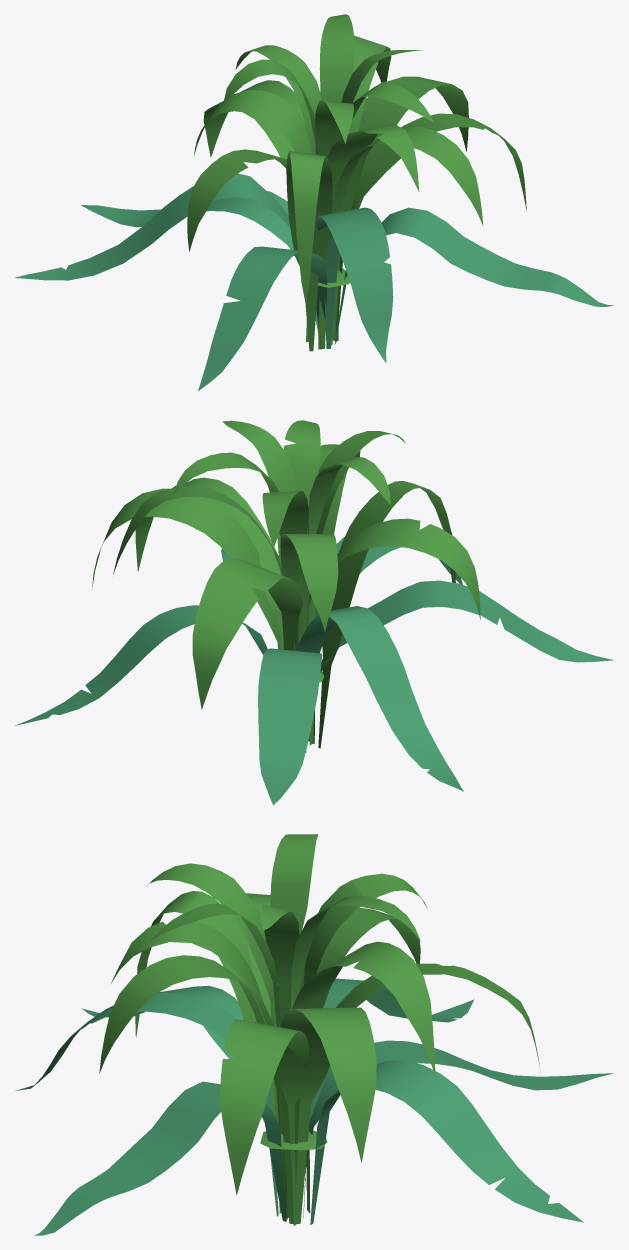
The model's file is plant_dracaena_G.fbx.
3 views of the same model, one above another, from view 1: azimuth 30°, elevation 25°; view 2: azimuth 150°, elevation 25°; view 3: azimuth 270°, elevation 25° (orthographic). The views are drawn at different scales.
Visible parts, largest first — view 1: plant_dracaena_F_leaf_S, plant_dracaena_F_leaf_T, plant_dracaena_F_leaf_U, plant_dracaena_G_leaf_J, plant_dracaena_F_leaf_Q, plant_dracaena_G_leaf_O, plant_dracaena_G_leaf_I, plant_dracaena_G_leaf_H, plant_dracaena_G_leaf_C, plant_dracaena_F_leaf_R, plant_dracaena_G_leaf_L, plant_dracaena_G_leaf_K (+8 smaller); view 2: plant_dracaena_F_leaf_Q, plant_dracaena_F_leaf_R, plant_dracaena_F_leaf_M, plant_dracaena_F_leaf_U, plant_dracaena_G_leaf_O, plant_dracaena_G_leaf_J, plant_dracaena_G_leaf_K, plant_dracaena_F_leaf_V, plant_dracaena_G_leaf_L, plant_dracaena_G_leaf_P, plant_dracaena_G_leaf_D, plant_dracaena_G_leaf_E (+7 smaller); view 3: plant_dracaena_G_leaf_O, plant_dracaena_F_leaf_V, plant_dracaena_F_leaf_T, plant_dracaena_G_leaf_P, plant_dracaena_G_leaf_N, plant_dracaena_G_leaf_H, plant_dracaena_F_leaf_R, plant_dracaena_G_leaf_F, plant_dracaena_G_leaf_D, plant_dracaena_G_leaf_E, plant_dracaena_G_leaf_I, plant_dracaena_F_leaf_S (+10 smaller).
Boxes of the visible parts, bbox=[...] form: plant_dracaena_F_leaf_S: bbox=[316, 207, 393, 362]; plant_dracaena_F_leaf_T: bbox=[334, 207, 614, 344]; plant_dracaena_F_leaf_U: bbox=[198, 246, 327, 390]; plant_dracaena_G_leaf_J: bbox=[286, 151, 332, 351]; plant_dracaena_F_leaf_Q: bbox=[15, 173, 325, 345]; plant_dracaena_G_leaf_O: bbox=[339, 76, 468, 255]; plant_dracaena_G_leaf_I: bbox=[327, 124, 419, 345]; plant_dracaena_G_leaf_H: bbox=[332, 126, 483, 225]; plant_dracaena_G_leaf_C: bbox=[319, 14, 354, 340]; plant_dracaena_F_leaf_R: bbox=[81, 191, 318, 332]; plant_dracaena_G_leaf_L: bbox=[194, 90, 311, 156]; plant_dracaena_G_leaf_K: bbox=[187, 149, 286, 251]; plant_dracaena_F_leaf_Q: bbox=[298, 606, 463, 791]; plant_dracaena_F_leaf_R: bbox=[258, 648, 322, 805]; plant_dracaena_F_leaf_M: bbox=[192, 558, 302, 709]; plant_dracaena_F_leaf_U: bbox=[320, 580, 613, 672]; plant_dracaena_G_leaf_O: bbox=[92, 488, 281, 649]; plant_dracaena_G_leaf_J: bbox=[318, 481, 455, 748]; plant_dracaena_G_leaf_K: bbox=[305, 518, 480, 629]; plant_dracaena_F_leaf_V: bbox=[15, 605, 267, 725]; plant_dracaena_G_leaf_L: bbox=[280, 534, 338, 633]; plant_dracaena_G_leaf_P: bbox=[135, 477, 283, 649]; plant_dracaena_G_leaf_D: bbox=[262, 490, 308, 752]; plant_dracaena_G_leaf_E: bbox=[308, 457, 390, 745]; plant_dracaena_G_leaf_O: bbox=[278, 1007, 376, 1224]; plant_dracaena_F_leaf_V: bbox=[310, 1060, 583, 1224]; plant_dracaena_F_leaf_T: bbox=[33, 1081, 286, 1235]; plant_dracaena_G_leaf_P: bbox=[219, 1019, 309, 1223]; plant_dracaena_G_leaf_N: bbox=[292, 941, 435, 1075]; plant_dracaena_G_leaf_H: bbox=[99, 955, 287, 1219]; plant_dracaena_F_leaf_R: bbox=[305, 1040, 613, 1169]; plant_dracaena_G_leaf_F: bbox=[146, 863, 281, 1213]; plant_dracaena_G_leaf_D: bbox=[304, 873, 427, 1213]; plant_dracaena_G_leaf_E: bbox=[270, 834, 317, 1008]; plant_dracaena_G_leaf_I: bbox=[111, 921, 284, 1189]; plant_dracaena_F_leaf_S: bbox=[15, 992, 278, 1216].
Bounding box in the file's own units: 124 × 82.91 × 130.
